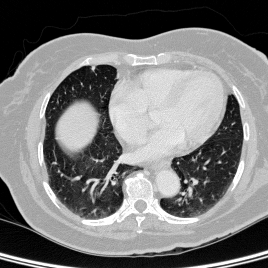nodule: (91, 66, 95, 70)
